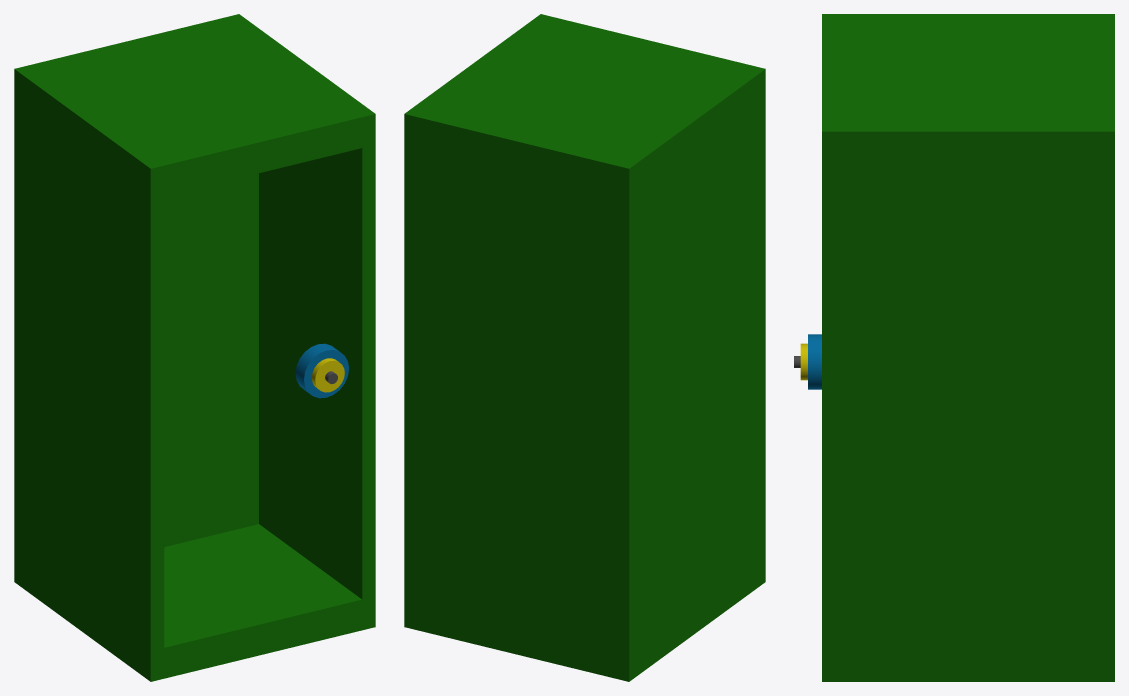
File: lockermodel.fbx
3 views of the same model, side by side, from view 1: azimuth 30°, elevation 25°; view 2: azimuth 150°, elevation 25°; view 3: azimuth 270°, elevation 25° (orthographic). The views are drawn at different scales.
Visible parts, largest first — view 1: lockforlocker3; view 2: lockforlocker3; view 3: lockforlocker3.
Part boxes in pixels (<box>): lockforlocker3: <box>14,14,375,681</box>; lockforlocker3: <box>404,14,765,681</box>; lockforlocker3: <box>794,14,1114,681</box>.
Bounding box in the file's own units: 1.22 × 2.65 × 1.4.
